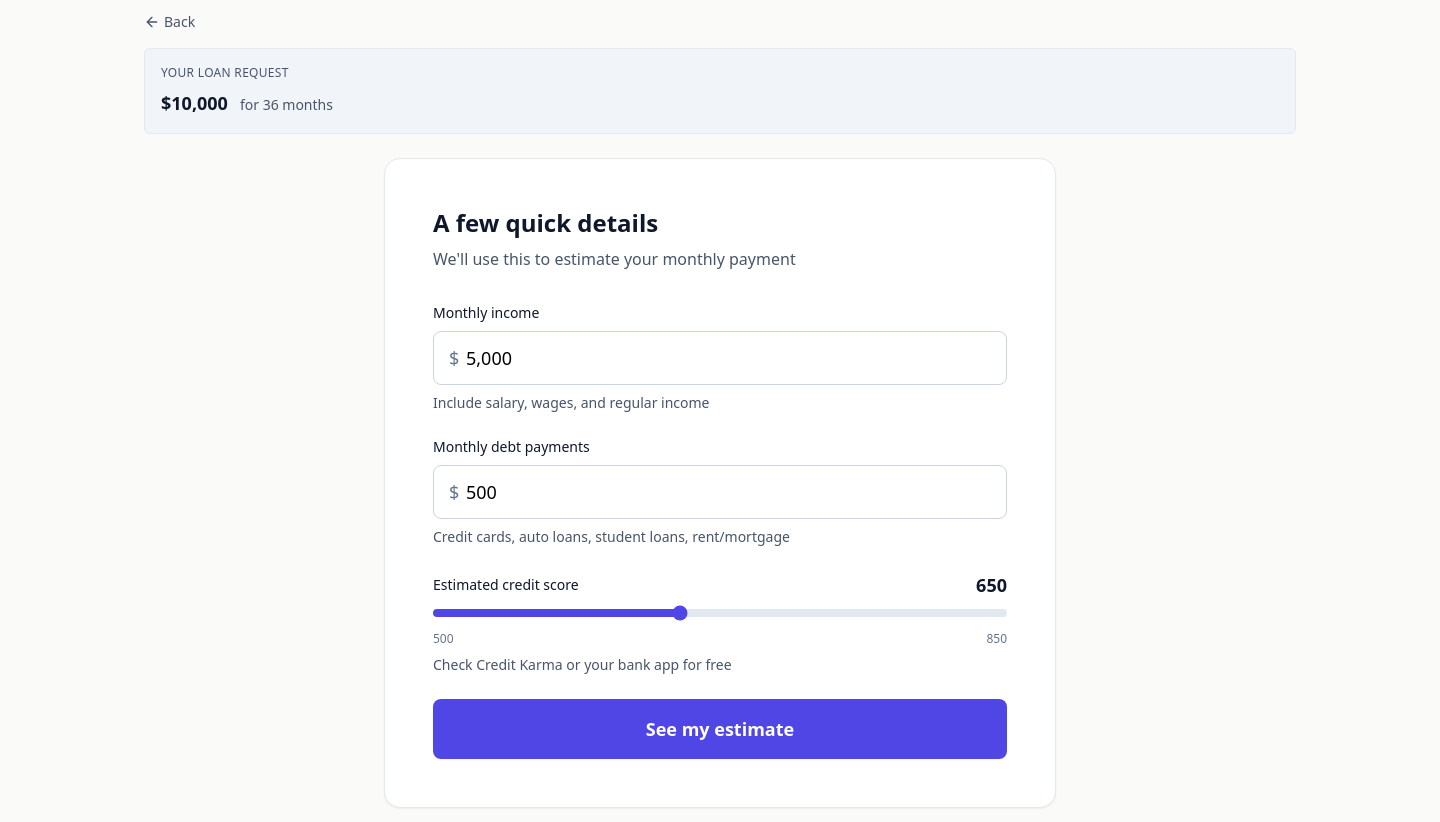
Test: FinancialDetailsStep - Validation (Task 4.3) › Real-time validation feedback › shows validation error immediately when income changes to invalid value
This screenshot has width=1440, height=822.
Type "1500" into the field labelled "Monthly income" at point(720, 358), box 433,331 -> 1007,385
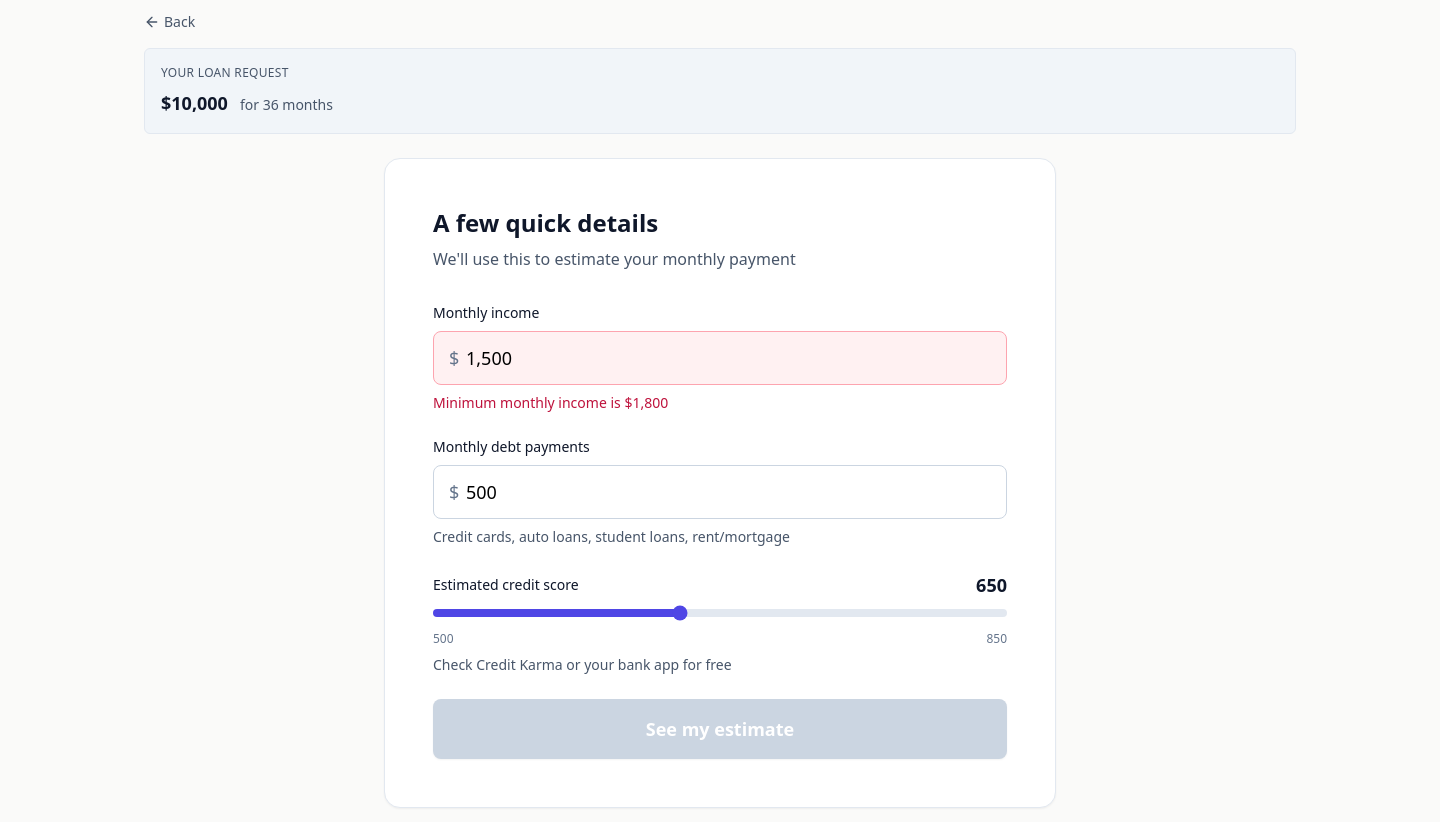
Now the text "Minimum monthly income is $1,800" is shown, box 433,393 -> 668,412
